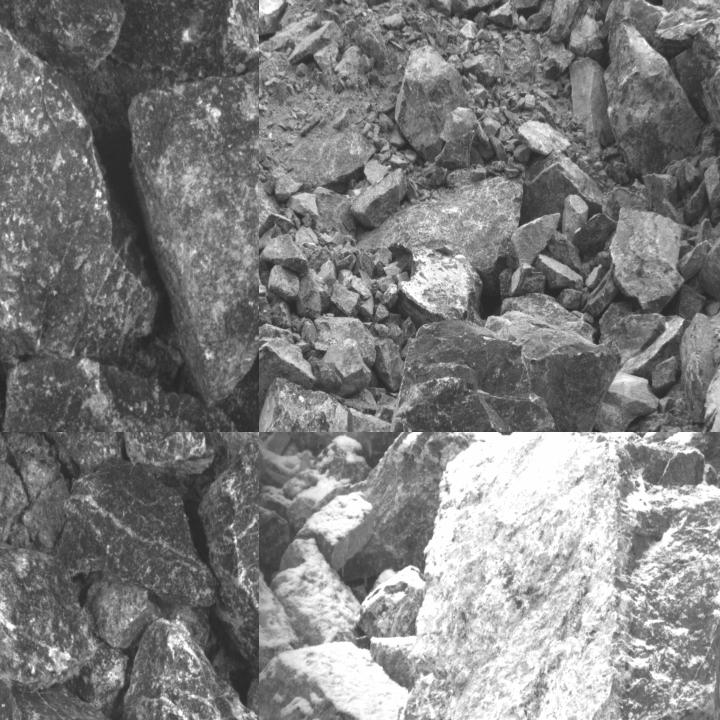stone: (363, 432, 719, 719), (0, 16, 159, 369), (125, 52, 258, 404), (392, 314, 621, 431), (0, 524, 129, 719), (50, 461, 220, 603), (1, 357, 240, 431), (606, 24, 705, 182), (201, 438, 258, 687), (110, 0, 258, 82), (259, 643, 407, 719), (0, 0, 126, 71), (394, 46, 470, 162), (266, 128, 376, 201), (612, 206, 683, 310), (259, 378, 392, 431), (400, 244, 481, 325), (292, 492, 374, 570), (520, 150, 604, 225), (85, 576, 163, 647), (500, 293, 598, 344), (14, 682, 145, 719), (680, 307, 719, 426), (358, 565, 421, 638), (566, 56, 616, 146), (14, 432, 127, 471), (651, 0, 719, 61), (597, 371, 662, 431), (124, 432, 210, 475), (350, 168, 408, 229), (259, 174, 297, 258), (603, 315, 665, 359), (510, 214, 558, 266), (259, 232, 309, 278), (698, 213, 719, 311), (536, 254, 583, 292), (451, 0, 543, 19), (549, 0, 591, 41), (434, 130, 475, 168), (677, 274, 708, 322), (259, 0, 287, 36), (259, 272, 275, 335), (705, 149, 719, 215), (401, 0, 454, 16), (570, 311, 596, 325)
